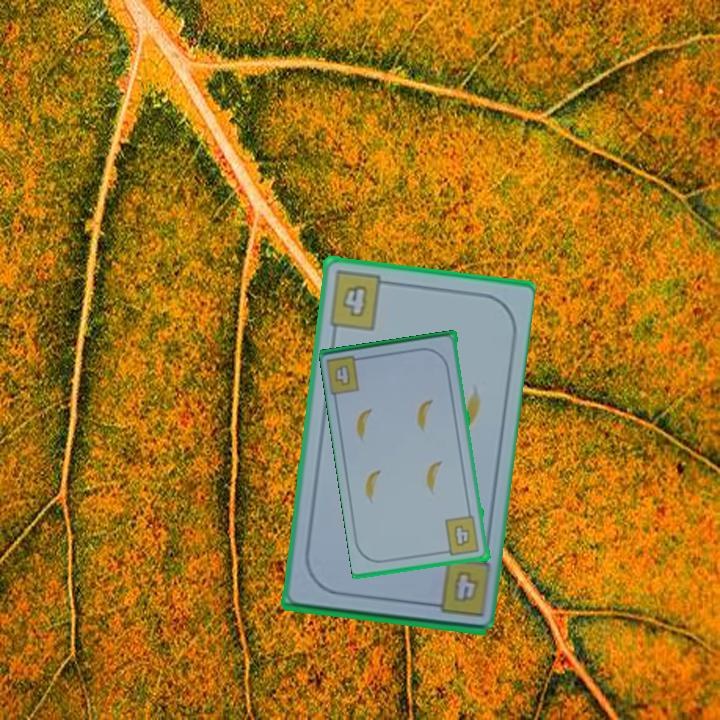4b: (325, 267, 394, 333), (325, 353, 369, 398), (440, 513, 483, 559), (453, 570, 478, 602)
